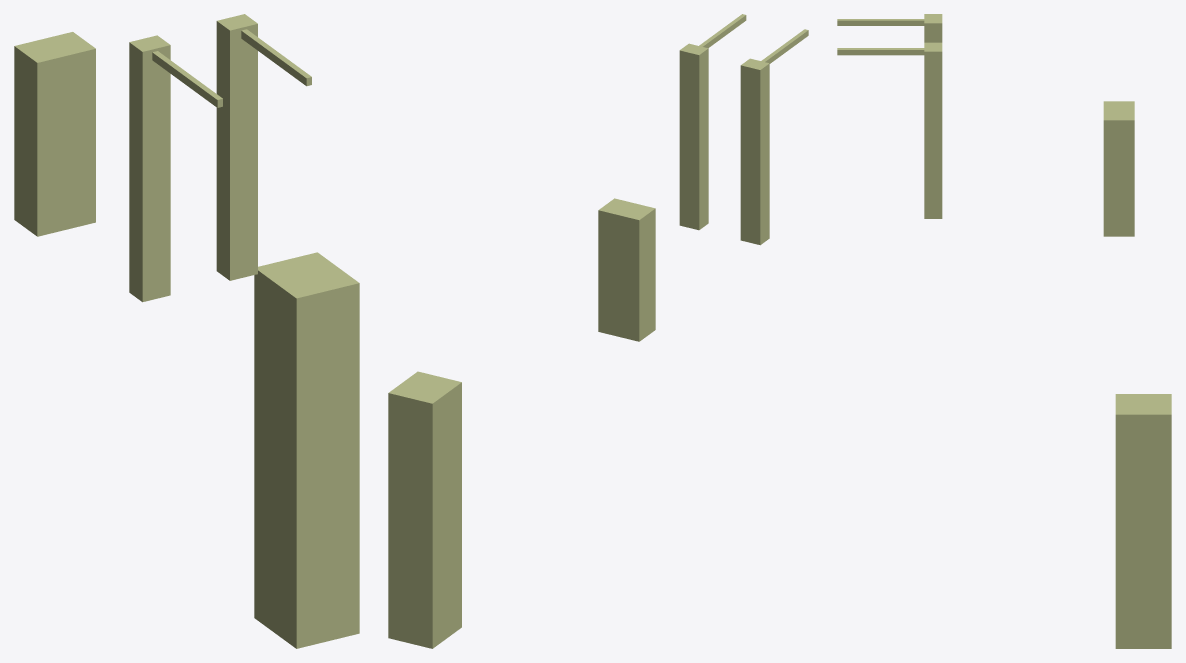
Rendered from llbscr-details.dae.
The picture shows the model from 3 angles, left to right: view 1: azimuth 30°, elevation 25°; view 2: azimuth 150°, elevation 25°; view 3: azimuth 270°, elevation 25°; orthographic projection. The views are drawn at different scales.
Visible parts, largest first — view 1: Cube_014, Cube, Cube_009, Cube_010, Cube_011, Cube_012; view 2: Cube_014, Cube, Cube_010, Cube_009; view 3: Cube_014, Cube, Cube_010, Cube_011, Cube_012, Cube_009.
Boxes of the visible parts, x1,y1,x2,y2 form: Cube_014: (254,252,359,648); Cube: (14,32,95,236); Cube_009: (129,35,170,302); Cube_010: (216,14,257,280); Cube_011: (241,29,311,86); Cube_012: (152,51,222,107); Cube_014: (388,371,461,648); Cube: (598,198,655,341); Cube_010: (679,43,708,230); Cube_009: (740,58,769,245); Cube_014: (1115,394,1171,648); Cube: (1103,101,1134,236); Cube_010: (924,42,942,218); Cube_011: (837,48,924,55); Cube_012: (837,19,924,25); Cube_009: (924,14,942,42).
Size of the model in its own units: 0.7945 by 0.9566 by 1.63.
